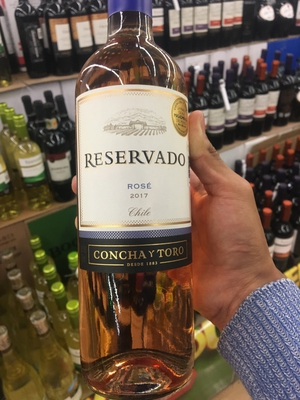reservado rose: (65, 10, 208, 395)
